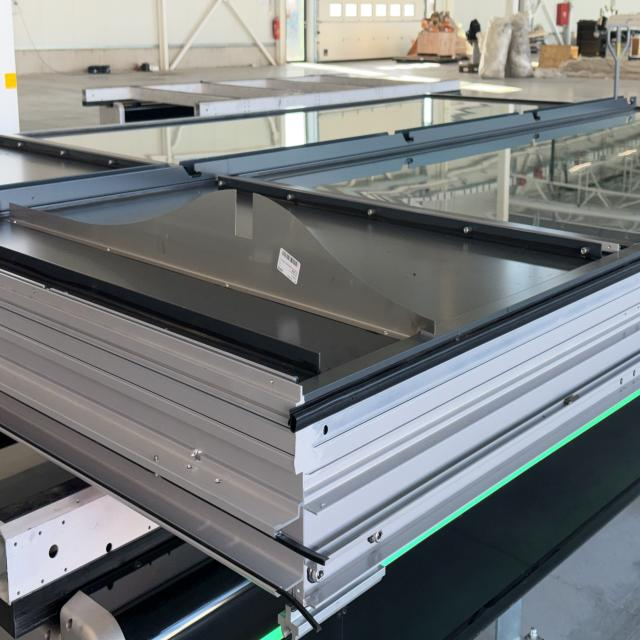lim_nedostaje: (2, 134, 417, 356), (0, 205, 321, 400)
vijak_nedostaje: (262, 367, 285, 399)
